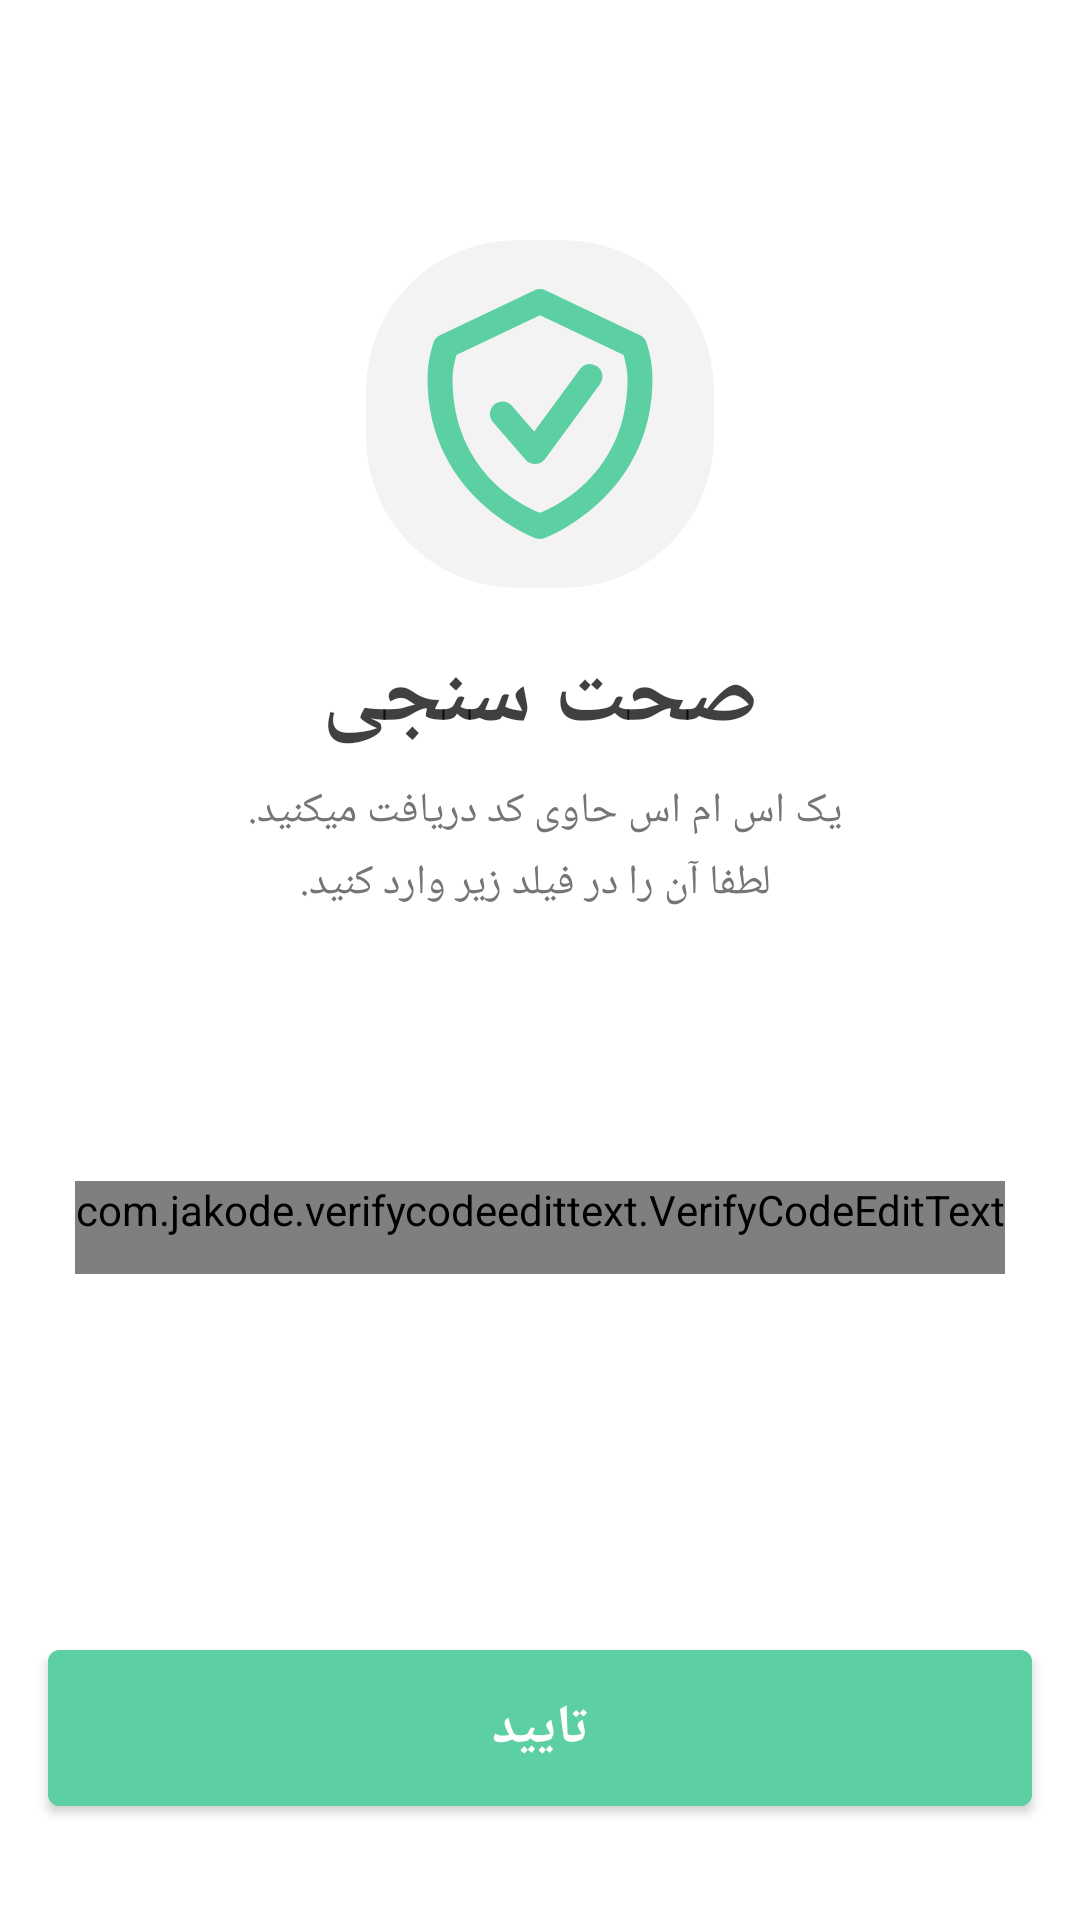

Icons on this 1080*1920 Android screen, each with the point to tap as point (x, y):
verification: point (540, 414)
